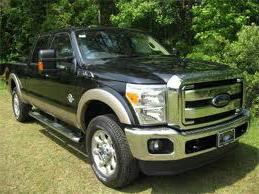Car: (2, 19, 253, 192)
